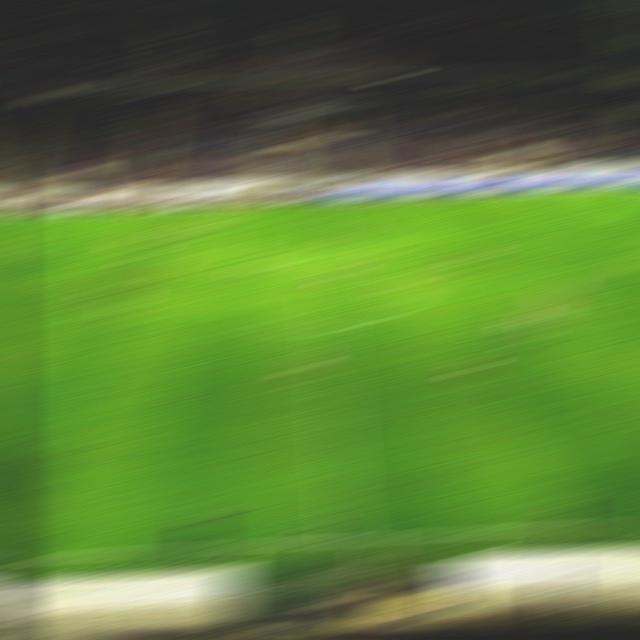bigarea_top_inner: (578, 214, 614, 221), (24, 241, 56, 248)
halfcircle_bottom: (311, 324, 346, 333)
halfcircle_top: (305, 254, 341, 263)
midline_bottom_intersection: (328, 532, 364, 544)
midline_top_intersection: (302, 201, 334, 208)
top_arc_area_intersection: (629, 246, 640, 248)
